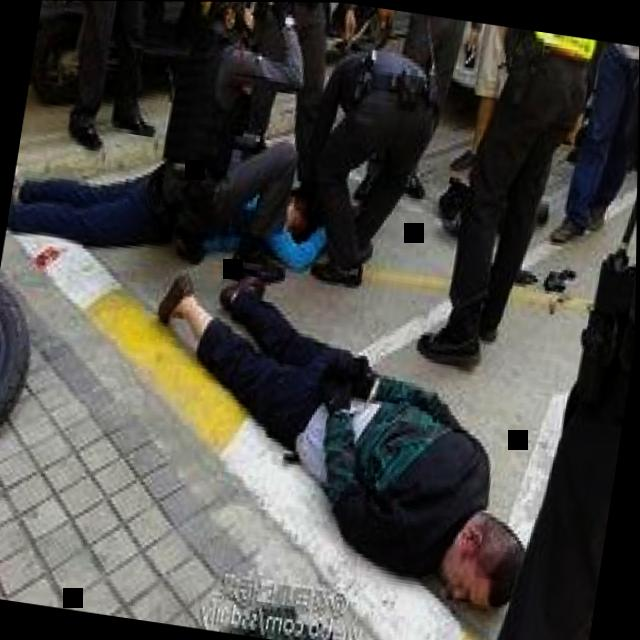Fall-Detected: (7, 104, 332, 272)
